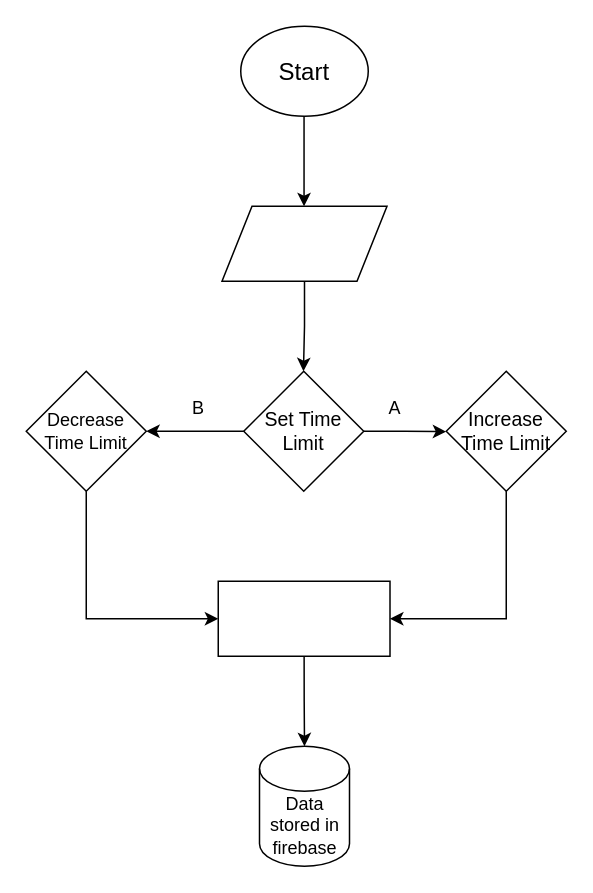
Image size: 593x893. Some labels were removed from this diagram. Each missing label, with the centre of its shape:
Button Pressed: (303,243)
Screentime: (303,618)
